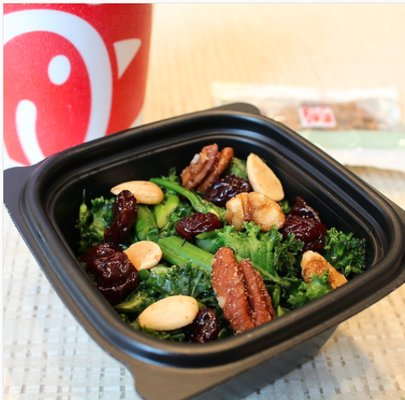curry: (195, 221, 332, 314), (74, 192, 117, 253), (322, 227, 366, 277)
pizza: (2, 5, 154, 167)
sushi: (13, 104, 405, 386)
